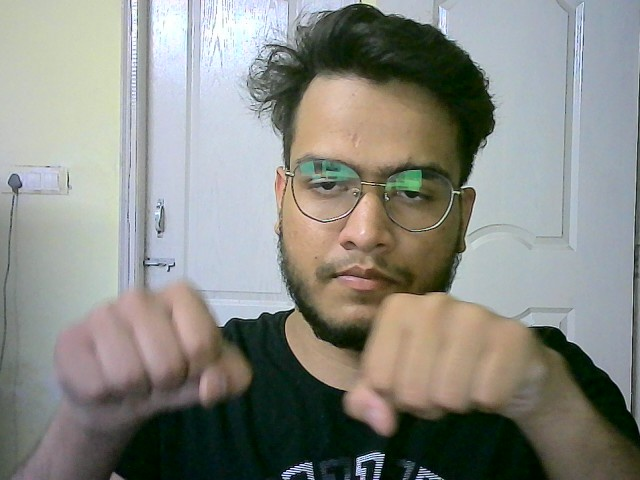Yes: (336, 281, 570, 442), (40, 276, 254, 429)
